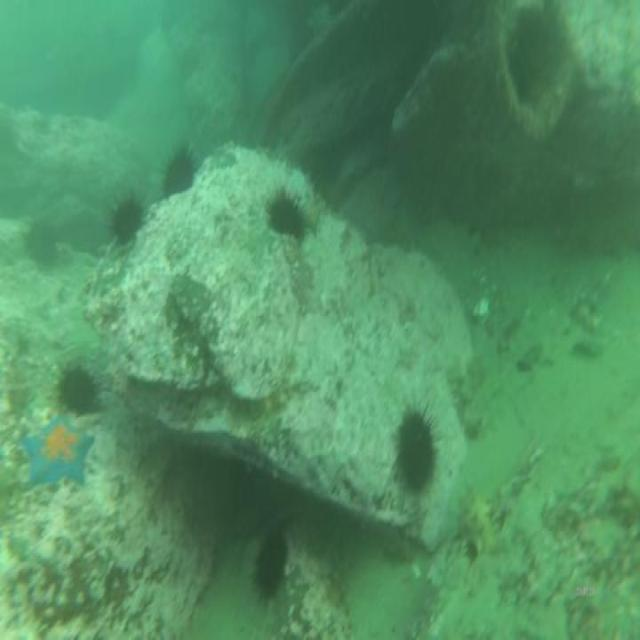echinus: (393, 406, 435, 503), (254, 523, 289, 604), (57, 357, 101, 419), (264, 186, 307, 246), (22, 220, 62, 278), (110, 193, 145, 251), (162, 145, 197, 201)
holothurian: (457, 484, 499, 561)
starfish: (22, 411, 94, 488)
